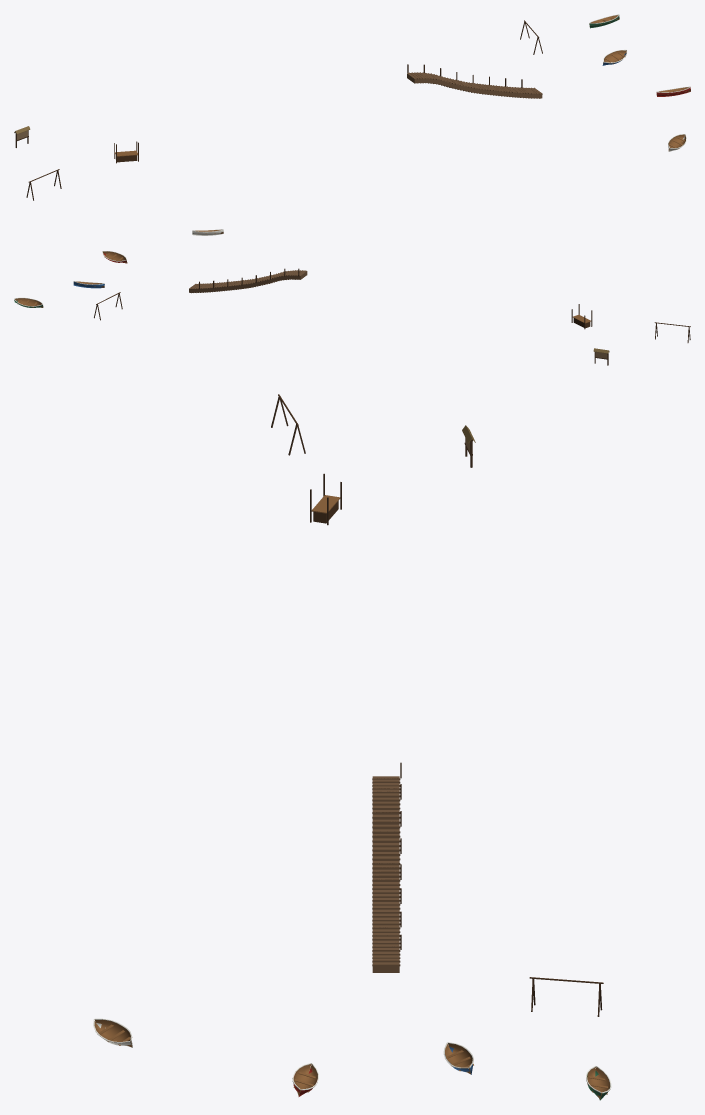
File: SM_FishersCove_Yard.fbx
The picture shows the model from 3 angles, top to bottom: view 1: azimuth 30°, elevation 25°; view 2: azimuth 150°, elevation 25°; view 3: azimuth 270°, elevation 25°; orthographic projection. The views are drawn at different scales.
Parts seen in each view (by area): view 1: SM_FishersCove_Yard; view 2: SM_FishersCove_Yard; view 3: SM_FishersCove_Yard.
Part boxes in pixels (left/top/right/bottom): SM_FishersCove_Yard: left=14, top=14, right=690, bottom=200; SM_FishersCove_Yard: left=14, top=229, right=690, bottom=365; SM_FishersCove_Yard: left=93, top=394, right=611, bottom=1100.
Bounding box in the file's own units: 91.53 × 10.46 × 34.45.
